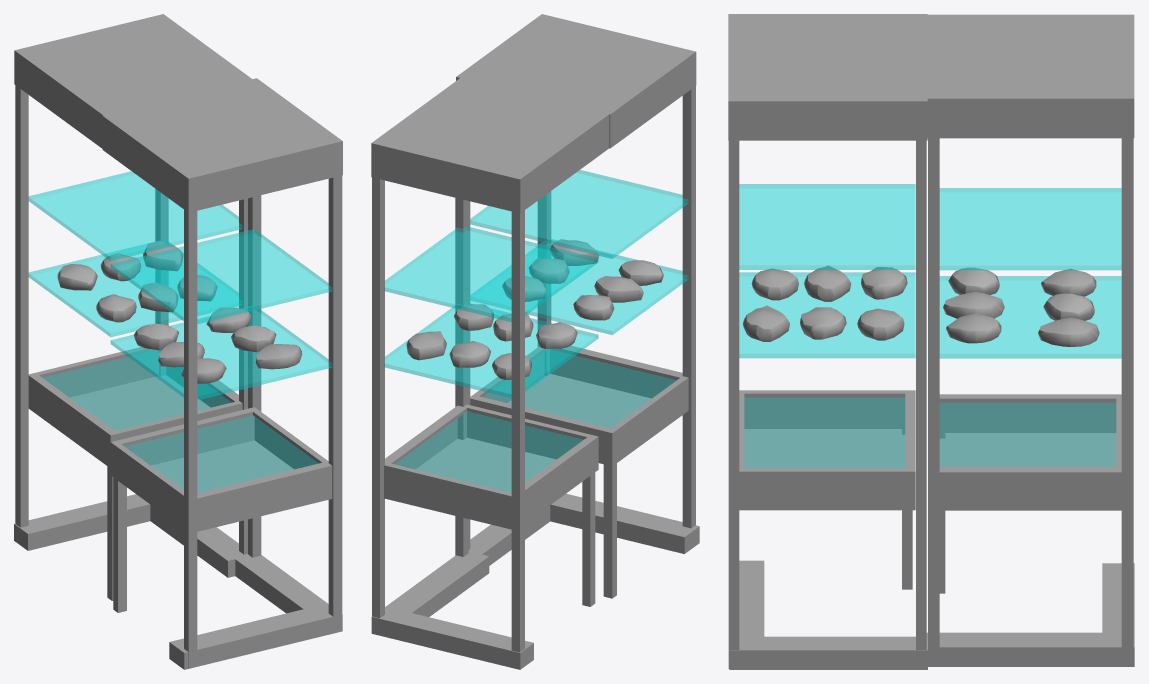
File: bread display case.fbx
3 renders of one model, left to right at view 1: azimuth 30°, elevation 25°; view 2: azimuth 150°, elevation 25°; view 3: azimuth 270°, elevation 25°, orthographic. The views are drawn at different scales.
Visible parts, largest first — view 1: polySurface8077; view 2: polySurface8077; view 3: polySurface8077.
Boxes of the visible parts, x1,y1,x2,y2 form: polySurface8077: [14, 14, 342, 669]; polySurface8077: [371, 14, 699, 669]; polySurface8077: [728, 14, 1134, 669].
Bounding box in the file's own units: 0.515 × 1.52 × 0.987.
